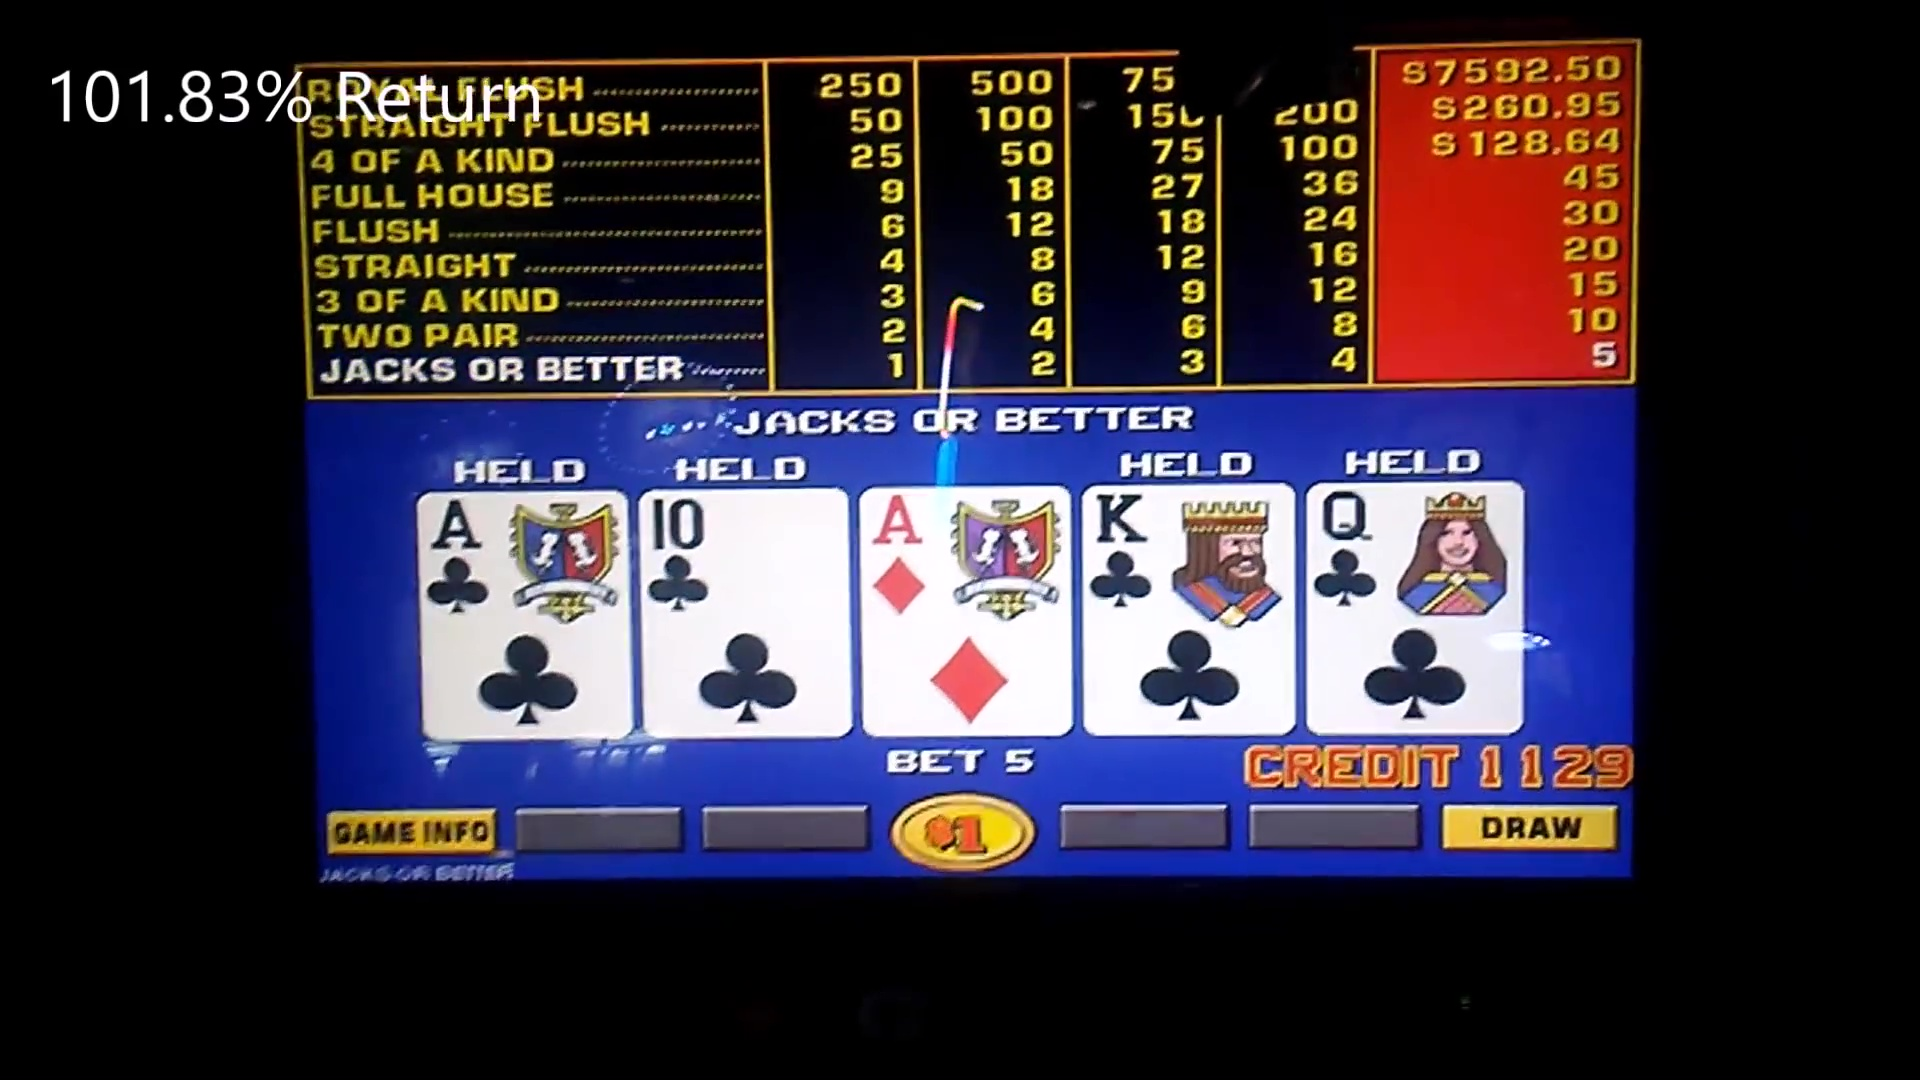AC: (419, 493, 636, 618)
AD: (858, 489, 1069, 617)
KC: (1083, 487, 1292, 617)
QC: (1308, 483, 1520, 620)
TC: (641, 492, 847, 617)
